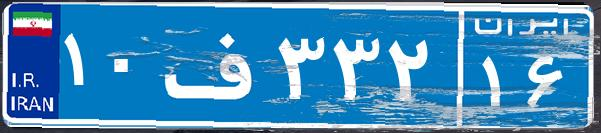0: (110, 28, 158, 105)
1: (57, 26, 110, 107), (475, 38, 525, 113)
2: (385, 28, 445, 110)
3: (273, 28, 330, 110), (330, 28, 385, 110)
6: (525, 38, 570, 115)
ف: (158, 15, 273, 115)
